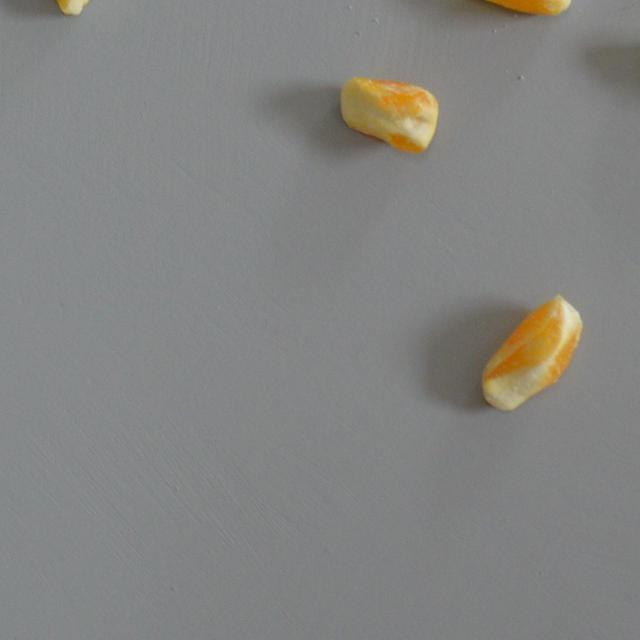dañado: (475, 290, 588, 417), (336, 71, 442, 160), (444, 0, 582, 24), (25, 0, 122, 18)
